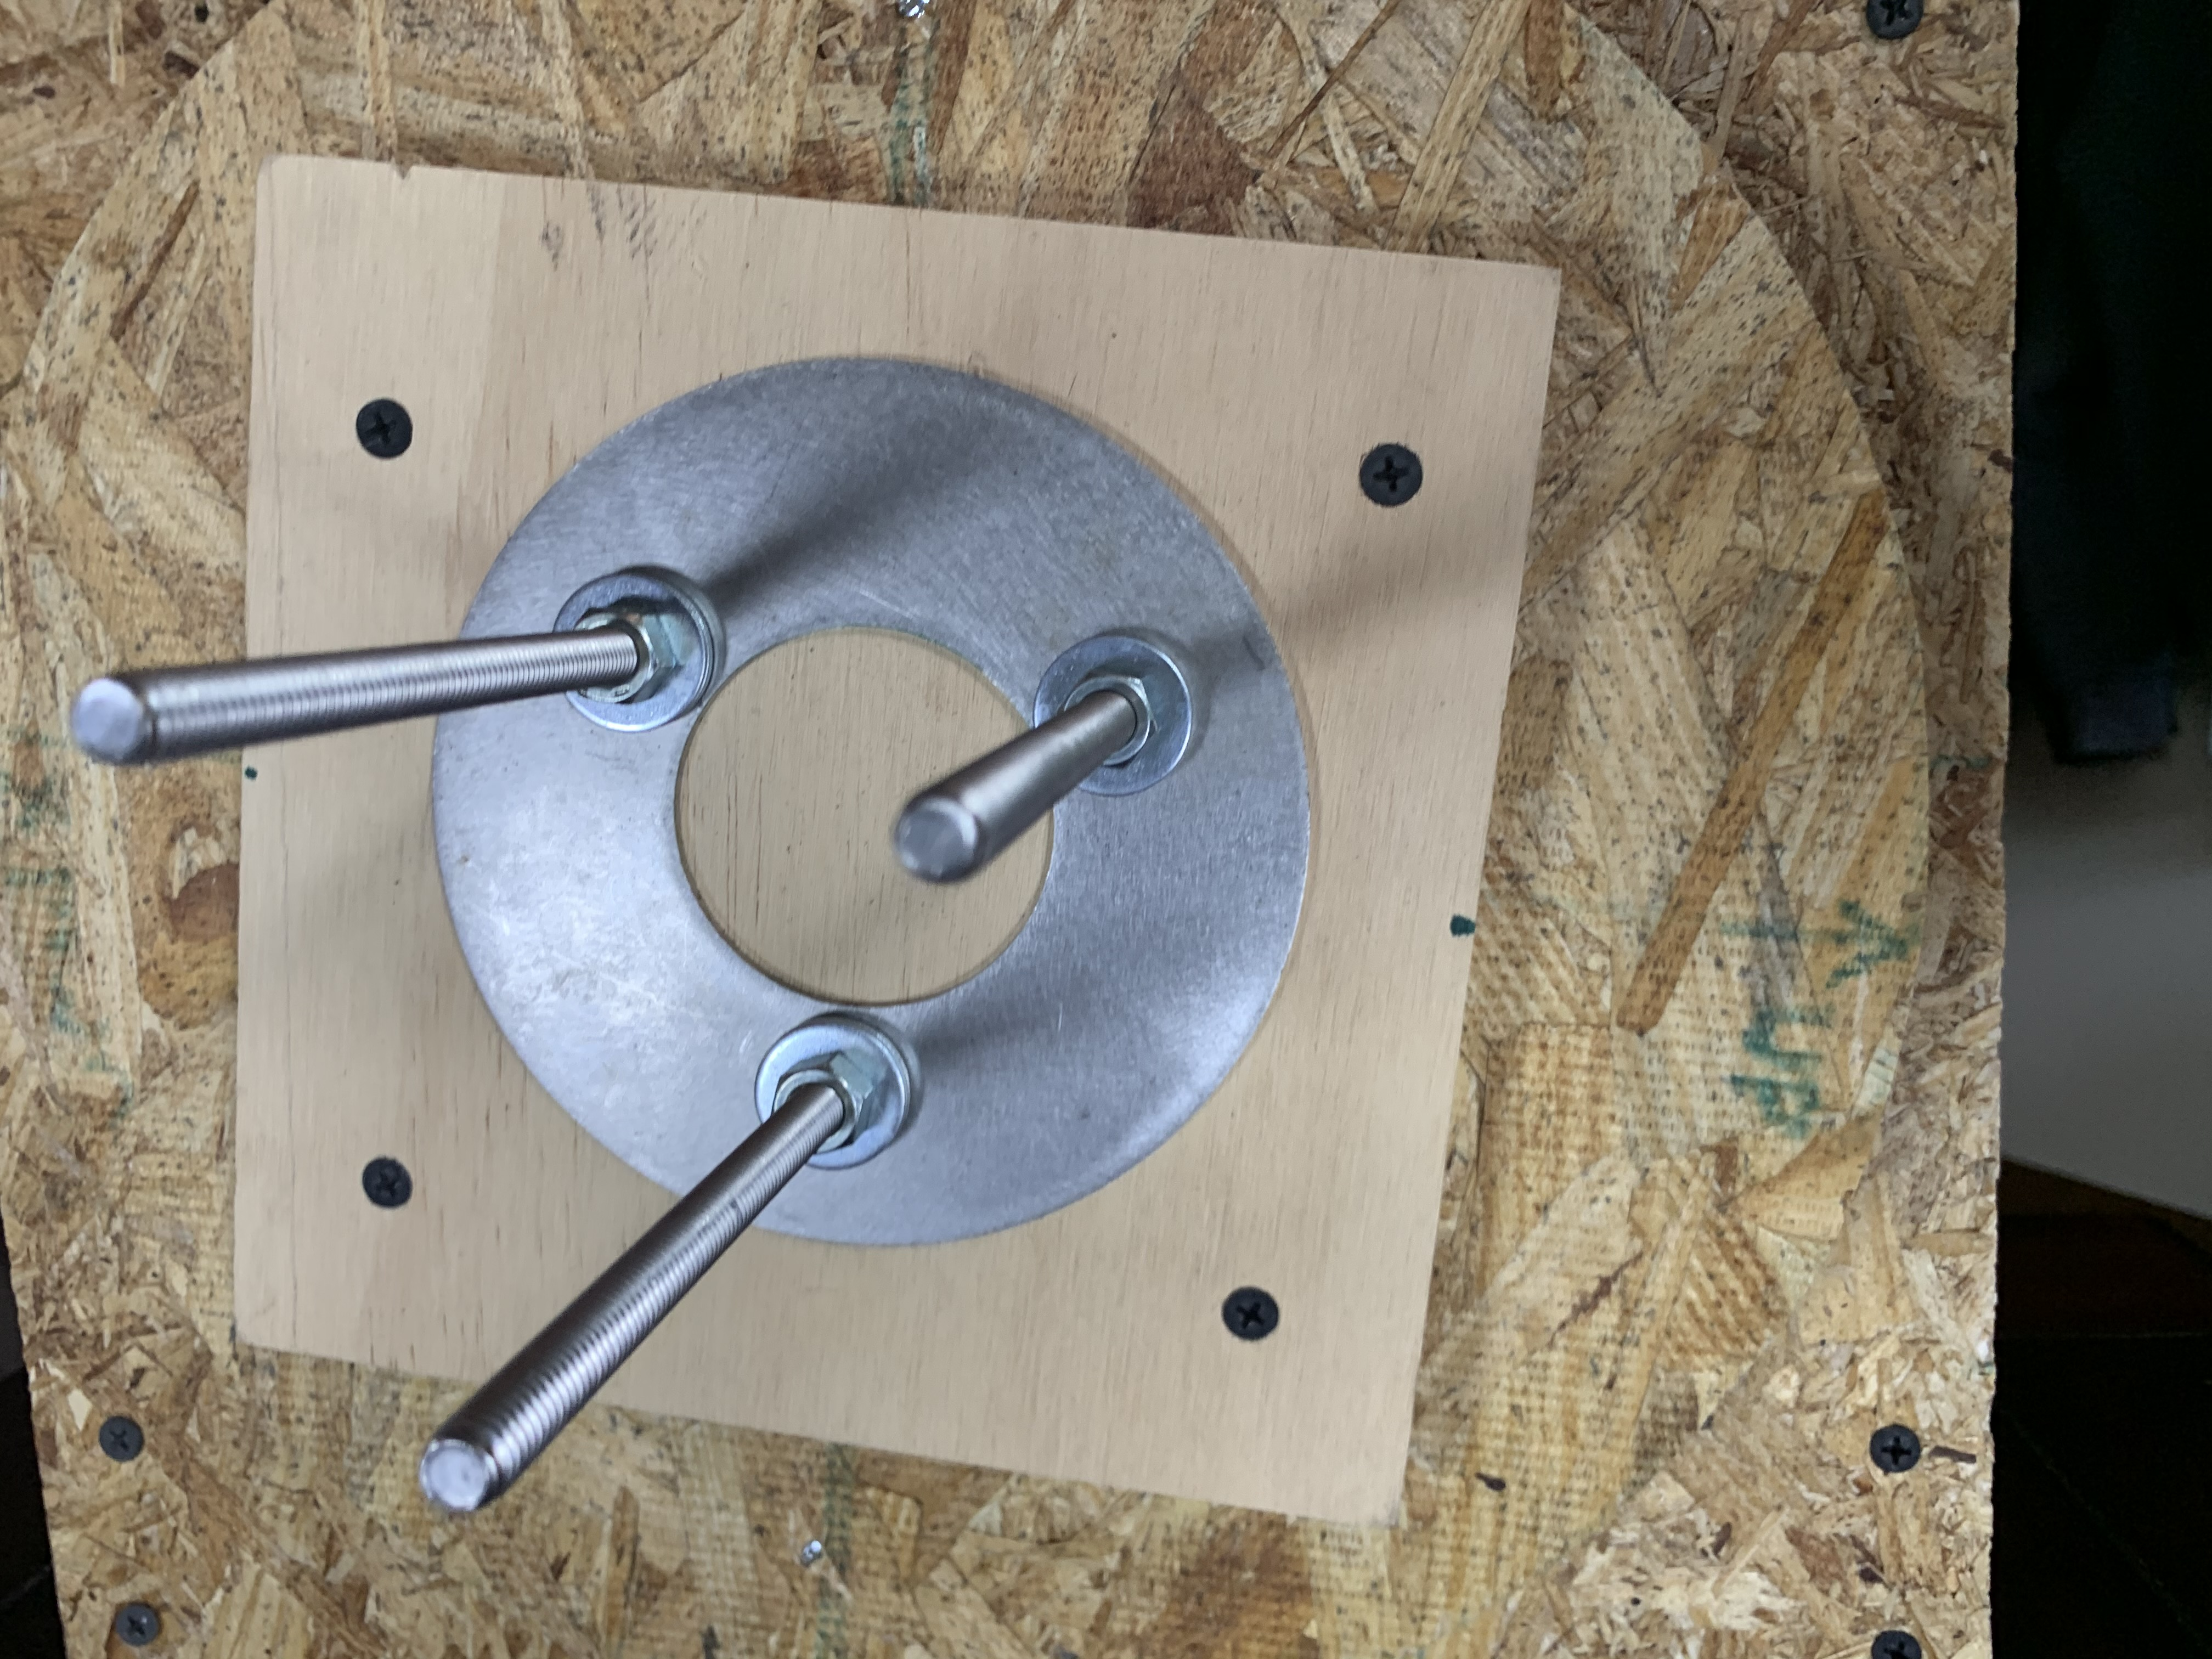bolt: (1031, 633, 1211, 795), (552, 566, 726, 732), (752, 1012, 923, 1173)
